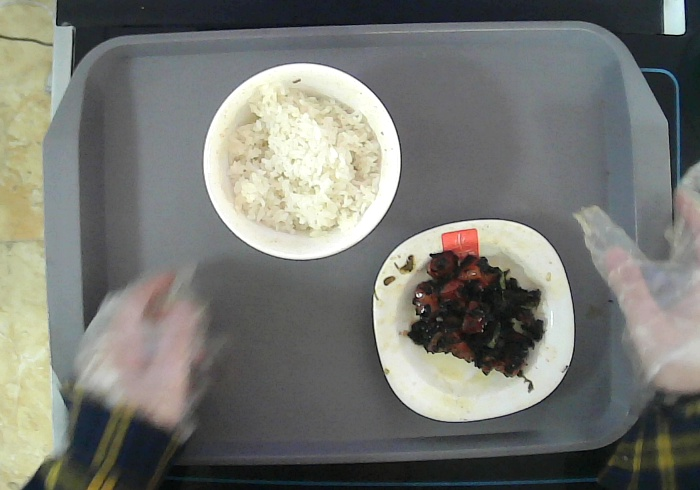SHKJ-Bai_Se_Si_Fang_Cai_Die: (366, 213, 587, 425)
SHKJ-Fan_Wan: (194, 58, 410, 266)
